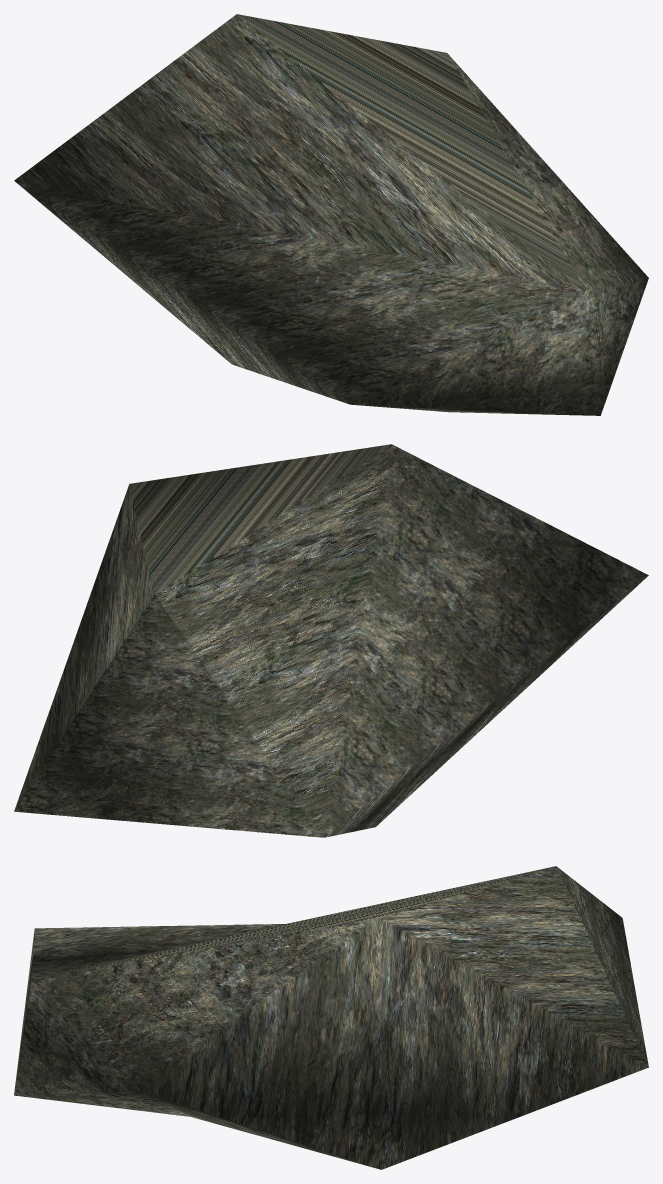
Rendered from mtns_rock_grey_a9_l3.fbx.
3 renders of one model, top to bottom at view 1: azimuth 30°, elevation 25°; view 2: azimuth 150°, elevation 25°; view 3: azimuth 270°, elevation 25°, orthographic. The views are drawn at different scales.
Parts seen in each view (by area): view 1: mesh_node; view 2: mesh_node; view 3: mesh_node.
Boxes of the visible parts, x1,y1,x2,y2 form: mesh_node: (14, 14, 648, 415); mesh_node: (14, 444, 648, 837); mesh_node: (14, 866, 648, 1169).
Bounding box in the file's own units: 1.32 × 0.8713 × 2.05.
1 material, 1 textured.
